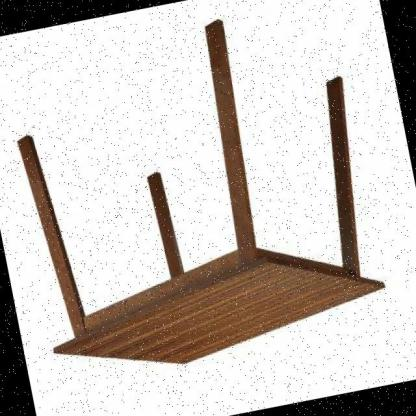Table: (0, 0, 414, 400)
